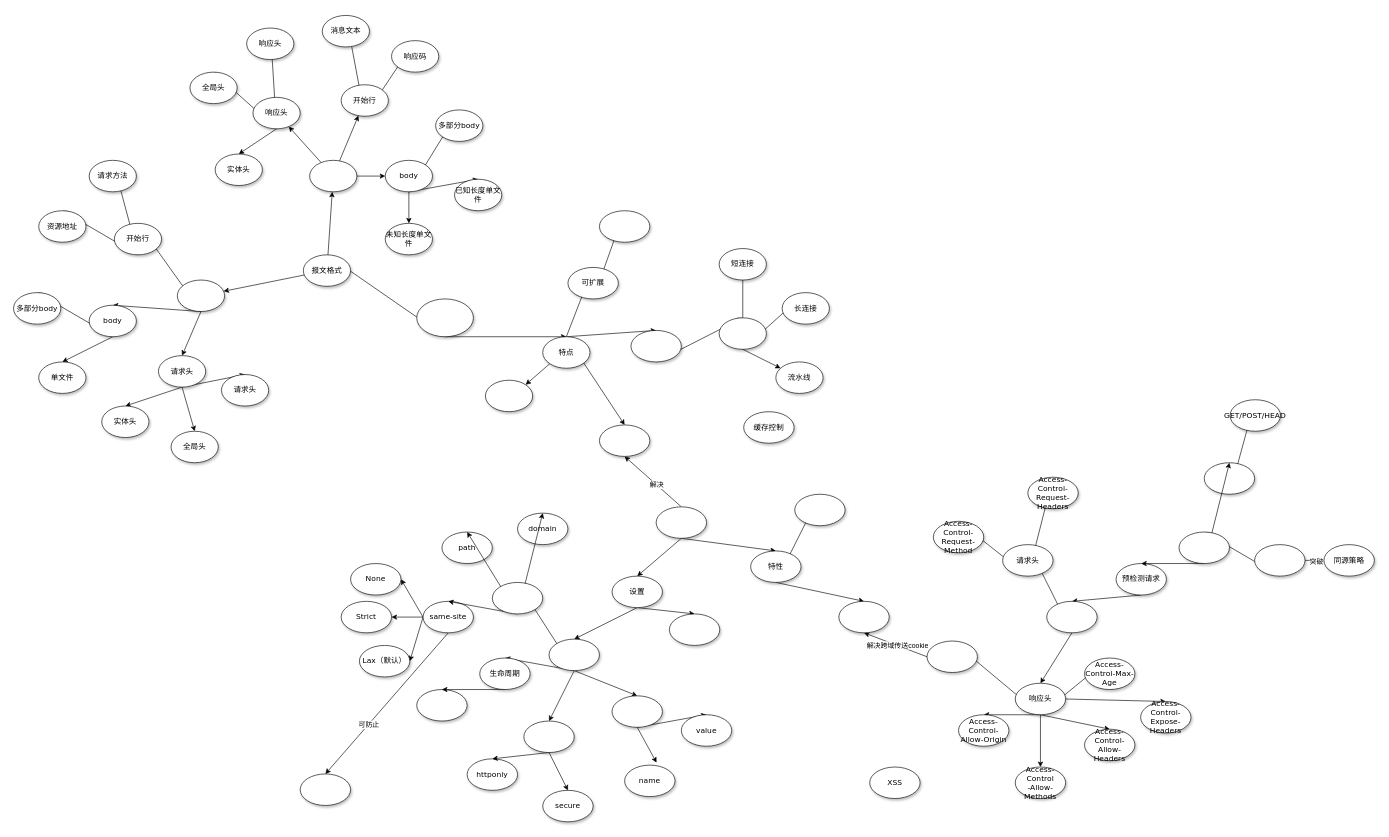
This 1389x837 diagram has some shape labels left out. Here are the shapes that lost their labels. From the top down, the centre of each, then its label:
At [333,176]: "响应体".
At [625,227]: "自定义头部".
At [201,296]: "请求体".
At [445,318]: "HTTP".
At [743,334]: "连接管理".
At [656,346]: "基于传输层连接请求".
At [509,396]: "简单".
At [625,441]: "无状态".
At [1229,479]: "简单请求".
At [681,523]: "cookie".
At [820,510]: "4k左右的大小".
At [1204,548]: "场景".
At [1280,561]: "CORS".
At [518,598]: "作用域".
At [864,617]: "同域请求会带上cookie发送".
At [1072,617]: "OPTIONS".
At [695,630]: "document.cookie".
At [574,655]: "Set-Cookie".
At [952,657]: "Access-Control-Allow-Credentials".
At [442,705]: "expired".
At [637,712]: "基本信息".
At [549,737]: "限制访问/安全".
At [325,790]: "XSRF".
